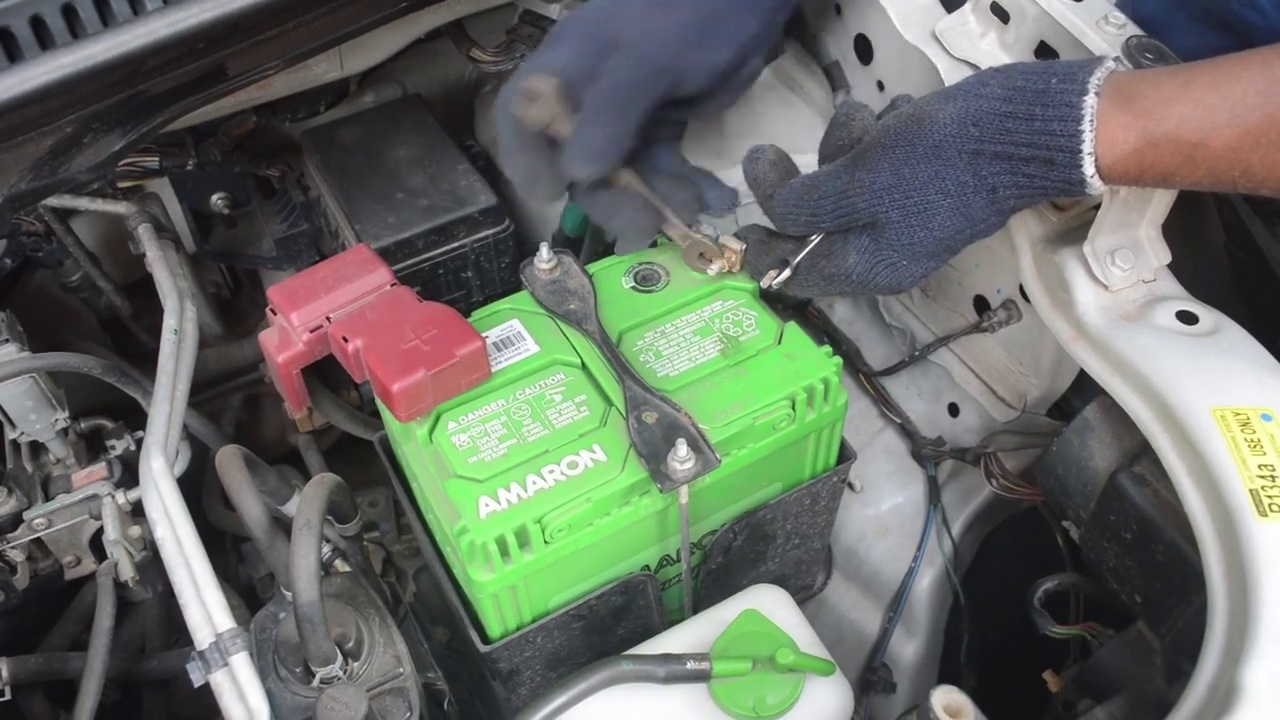battery: (351, 223, 869, 572)
neg_touched: (554, 72, 830, 291)
pos_connected: (292, 235, 503, 423)
